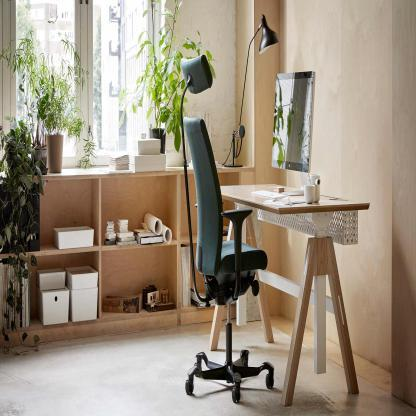chair: (175, 54, 278, 413)
light: (218, 14, 284, 174)
table: (217, 180, 387, 407)
